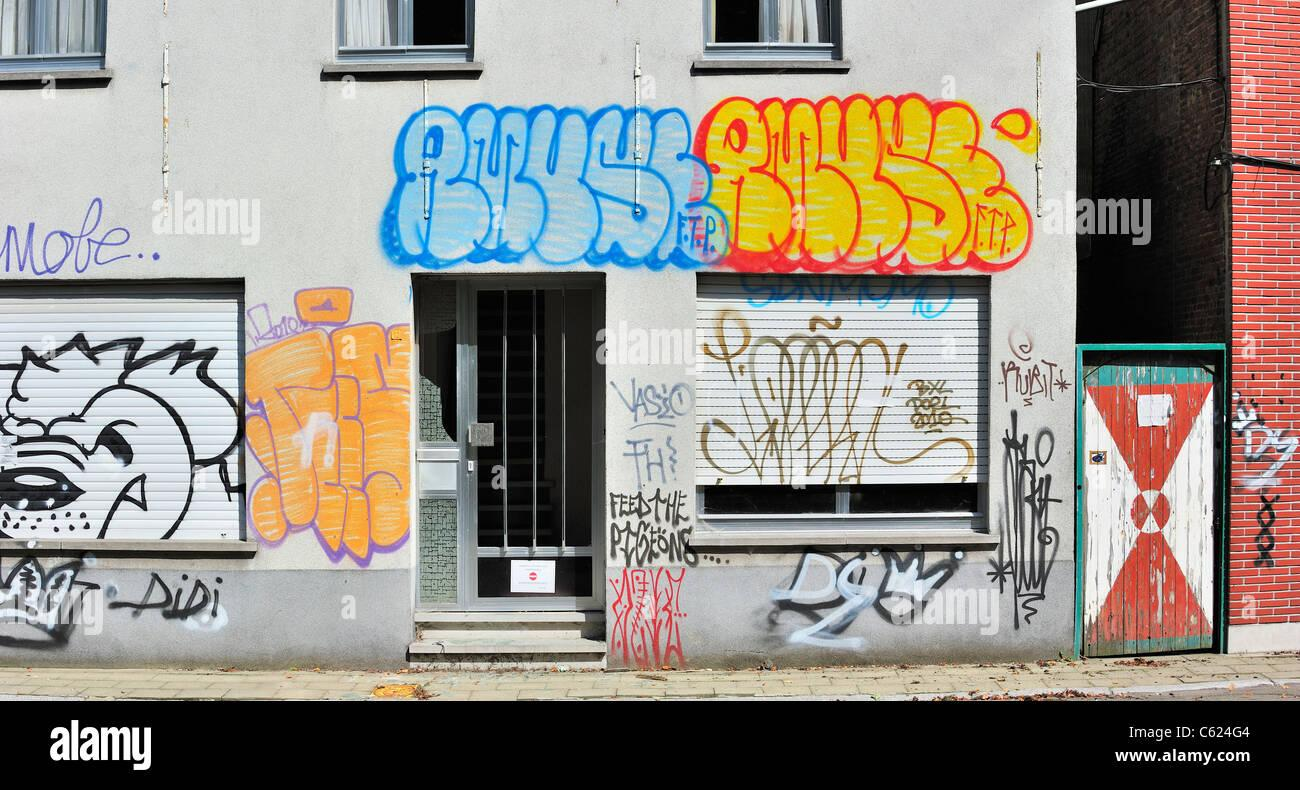graffiti: (383, 93, 1039, 273), (698, 312, 982, 486), (0, 333, 242, 537), (247, 287, 409, 566), (1083, 381, 1214, 653), (608, 374, 694, 666), (769, 550, 962, 648), (990, 410, 1061, 628), (1233, 401, 1299, 567), (0, 200, 148, 274), (0, 557, 98, 645), (1000, 329, 1072, 405), (109, 572, 219, 620)
